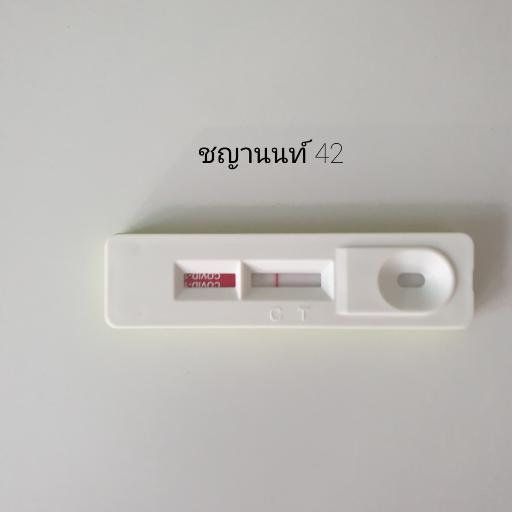Neg: (105, 234, 473, 326)
